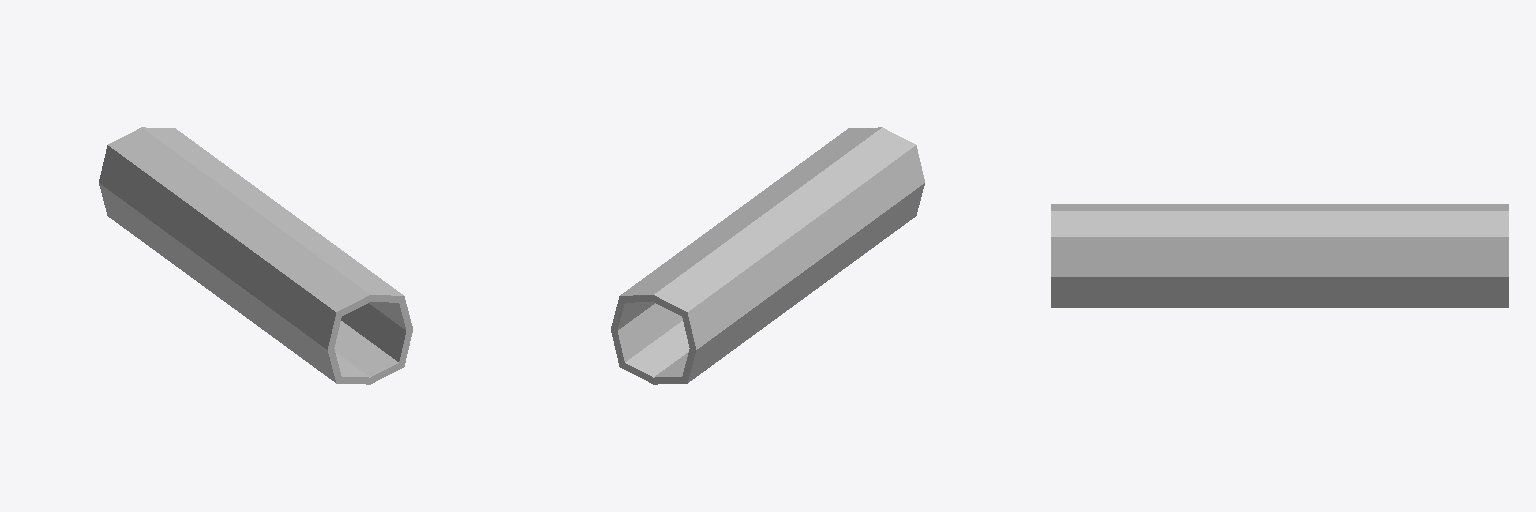
Rendered from props_foundry_chute_closed_flattip_1.obj.
3 renders of one model, left to right at view 1: azimuth 30°, elevation 25°; view 2: azimuth 150°, elevation 25°; view 3: azimuth 270°, elevation 25°, orthographic.
Size of the model in its own units: 7.16 by 7.16 by 33.1.